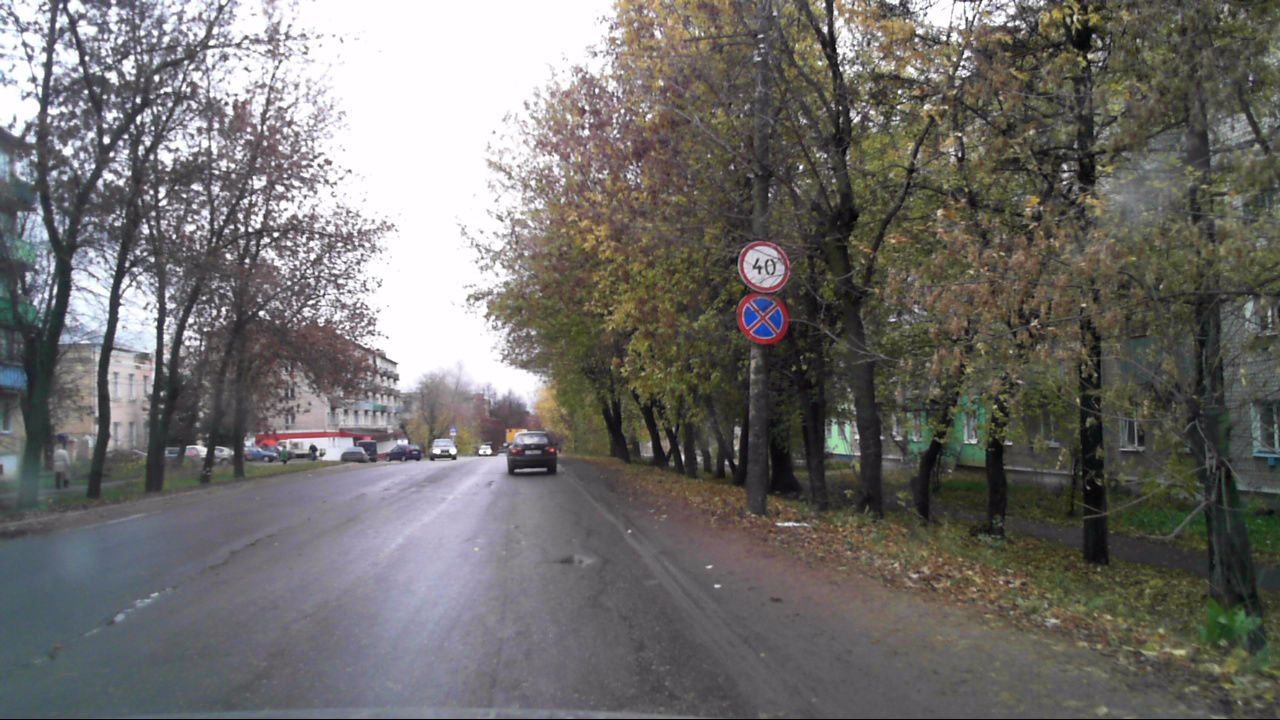No Parking: (735, 291, 788, 345)
speed_warning_40: (737, 240, 790, 291)
